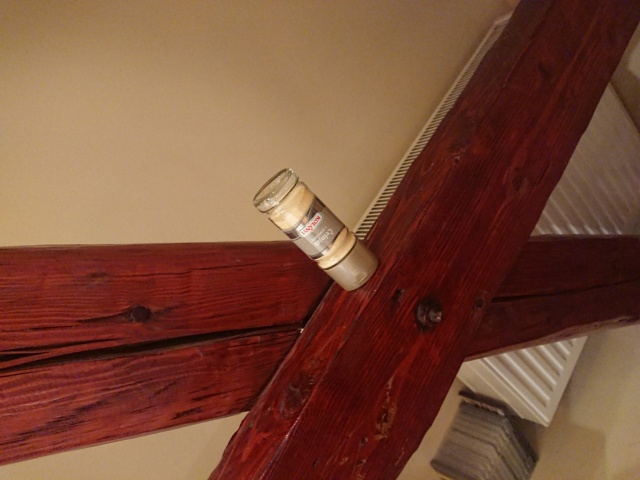Kotanyi Garlic Granules 70g: (251, 166, 382, 294)
